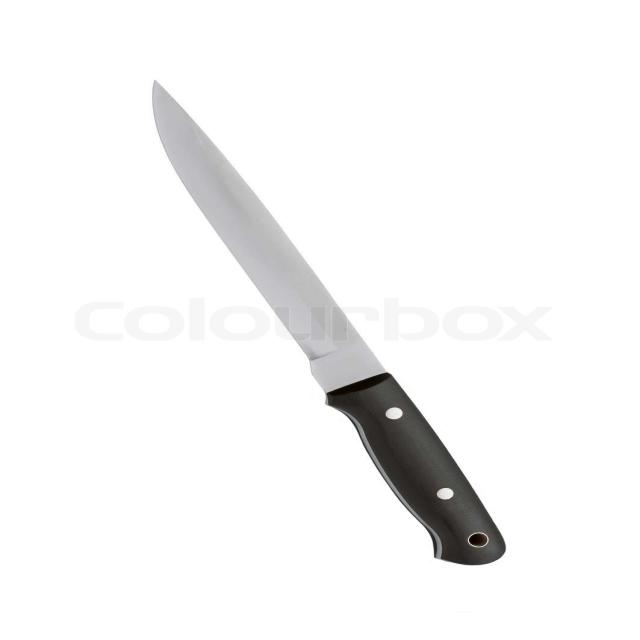Knife: (149, 79, 506, 565)
